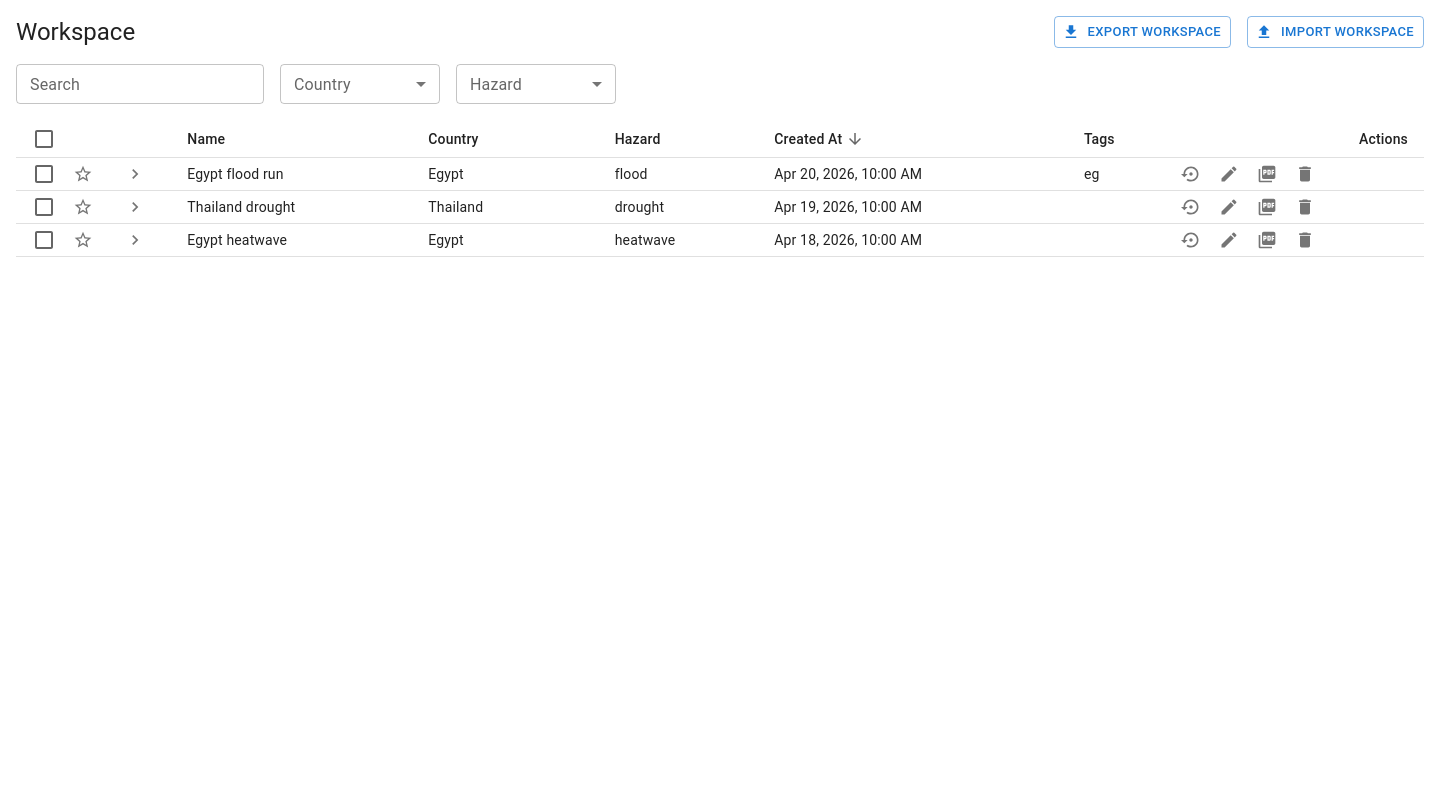
Scenario: WorkspaceView › renders 3 mock scenarios, searches to 1, deletes it
This screenshot has width=1440, height=810.
Expected: the text "Egypt flood run" is shown, [171, 158, 412, 191]
Expected: the text "Thailand drought" is shown, [171, 191, 412, 224]
Type "Thailand" into the field named "search-scenarios".
click(140, 84); type("Thailand")  # box [16, 64, 264, 104]
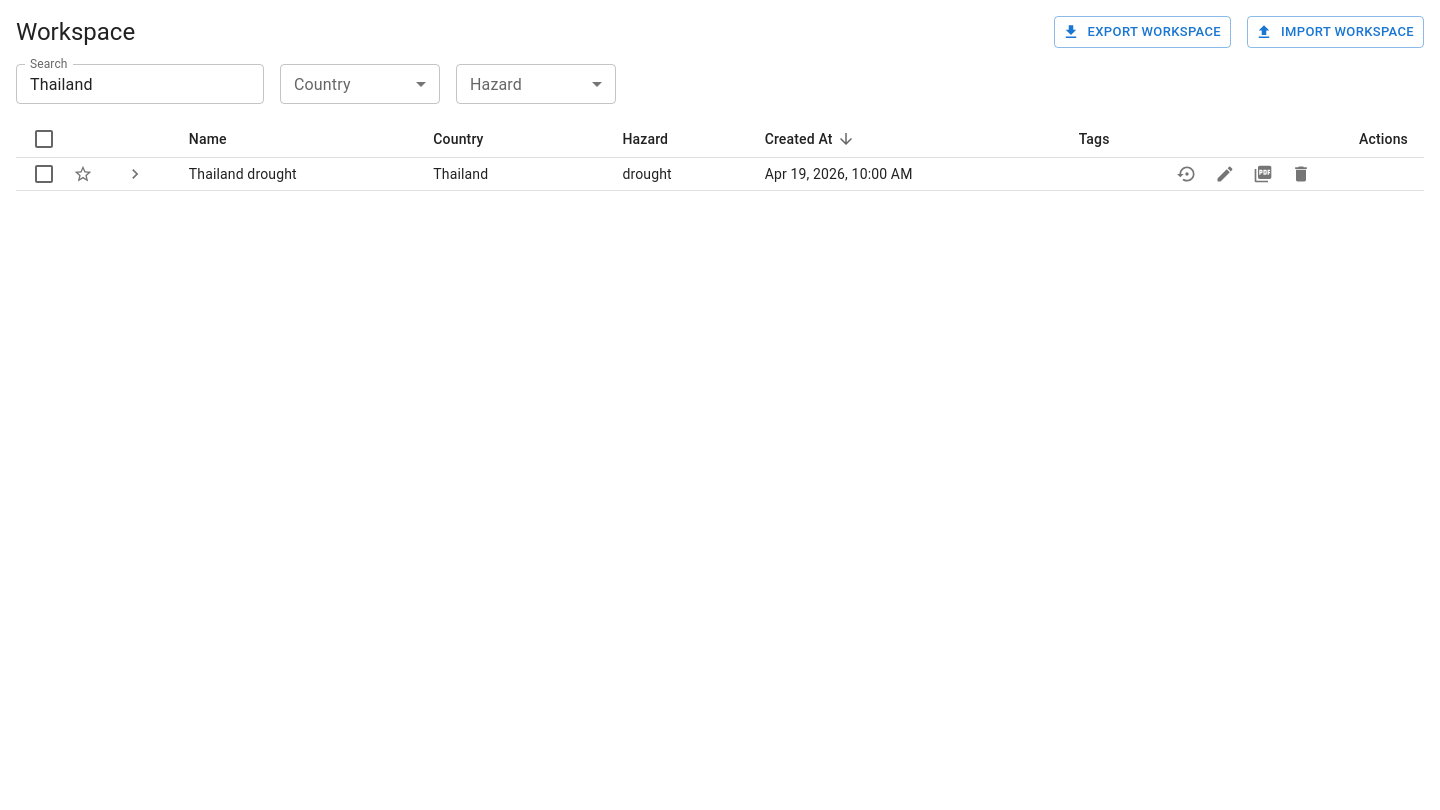
Expected: the text "Thailand drought" is shown, [173, 158, 417, 191]
Now the text "Egypt flood run" is gone
Now the text "Egypt heatwave" is gone
Click the button named "delete-s-2".
click(1301, 174)  # box [1286, 159, 1316, 189]
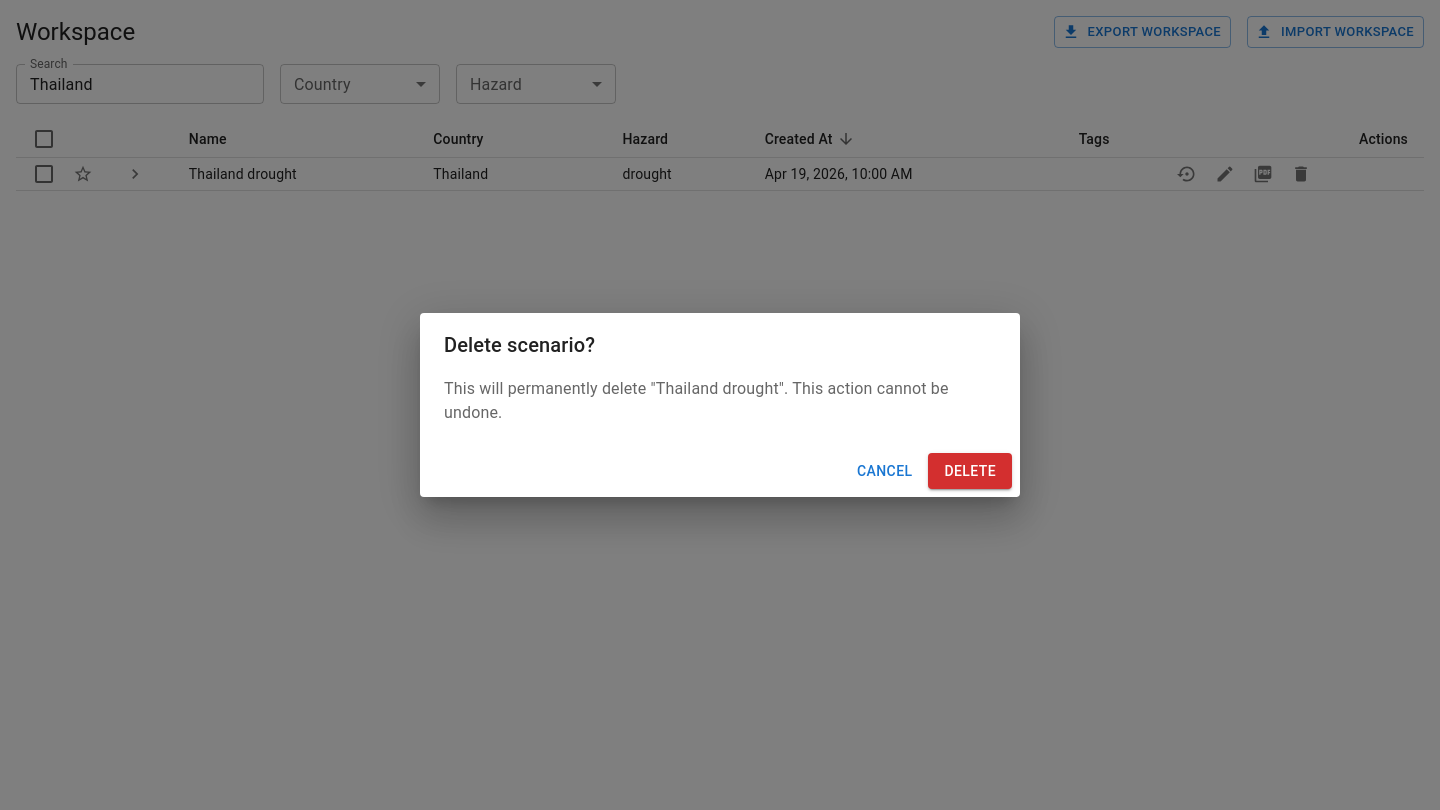
Click the button with aria-label "delete-confirm-s-2".
click(970, 471)  # box [928, 453, 1012, 489]
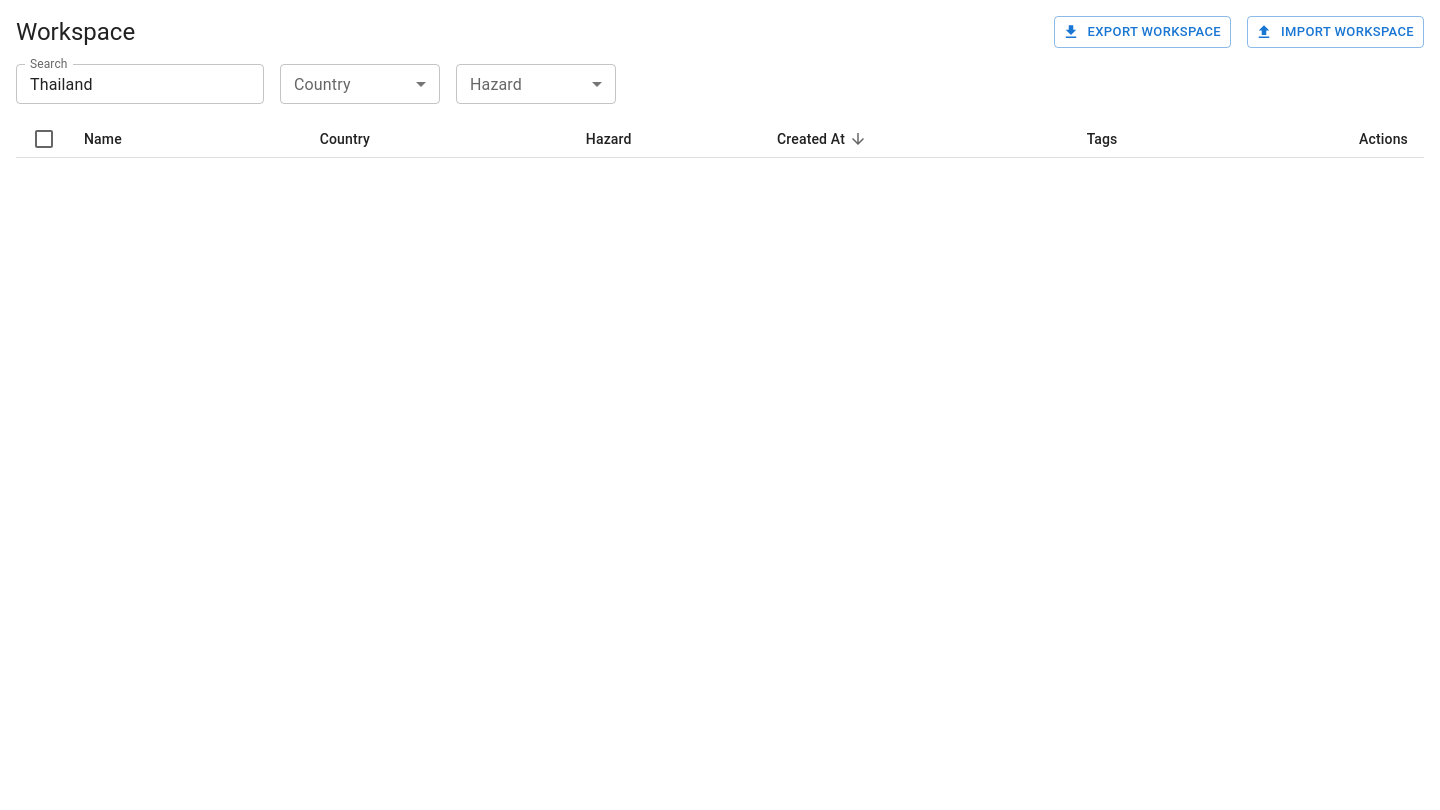
Now the text "Thailand drought" is gone
